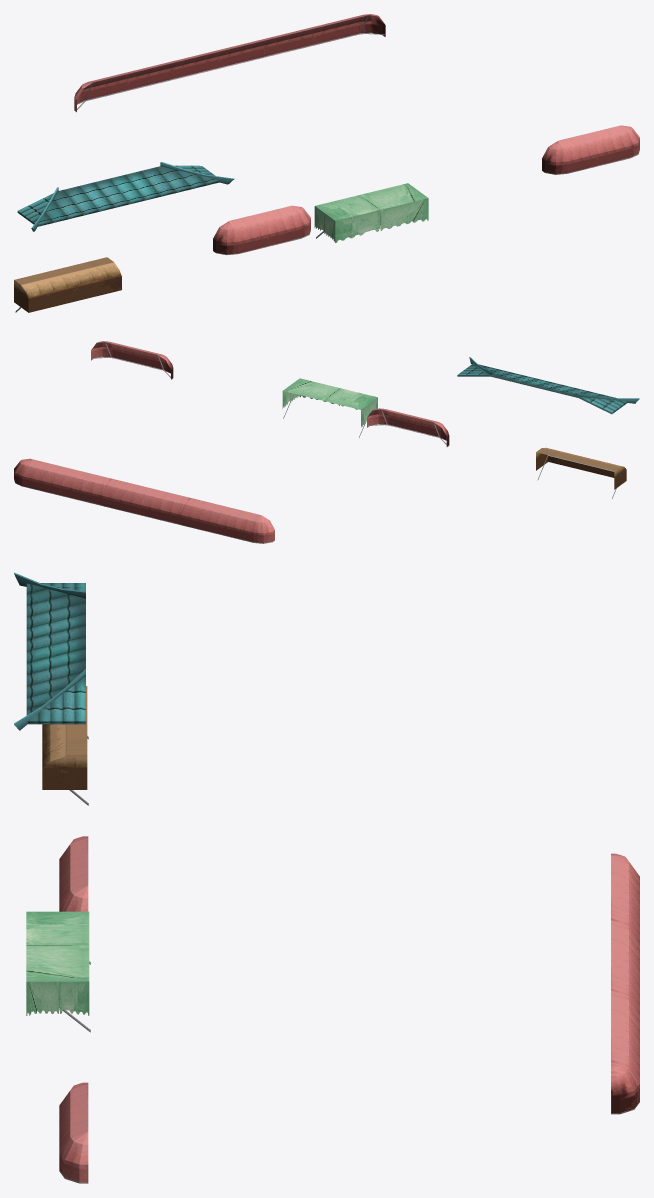
Rendered from chinawning04.obj.
3 views of the same model, one above another, from view 1: azimuth 30°, elevation 25°; view 2: azimuth 150°, elevation 25°; view 3: azimuth 270°, elevation 25° (orthographic). The views are drawn at different scales.
Parts seen in each view (by area): view 1: chinawning04; view 2: chinawning04; view 3: chinawning04.
Part boxes in pixels (<box>): chinawning04: <box>14,14,639,312</box>; chinawning04: <box>14,341,639,543</box>; chinawning04: <box>14,572,639,1183</box>.
Bounding box in the file's own units: 51.63 × 9.11 × 28.95.
Materials: 7 (7 with a texture image).
